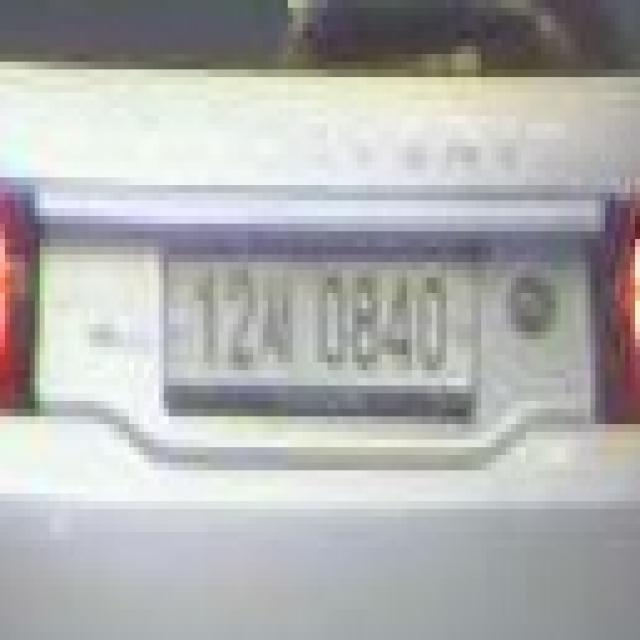0: (313, 254, 347, 378), (417, 270, 456, 378)
1: (184, 262, 223, 378)
2: (223, 262, 258, 378)
4: (382, 270, 417, 378)
8: (347, 262, 382, 378)
jeo: (258, 255, 308, 370)
license_plate: (149, 231, 496, 432)
